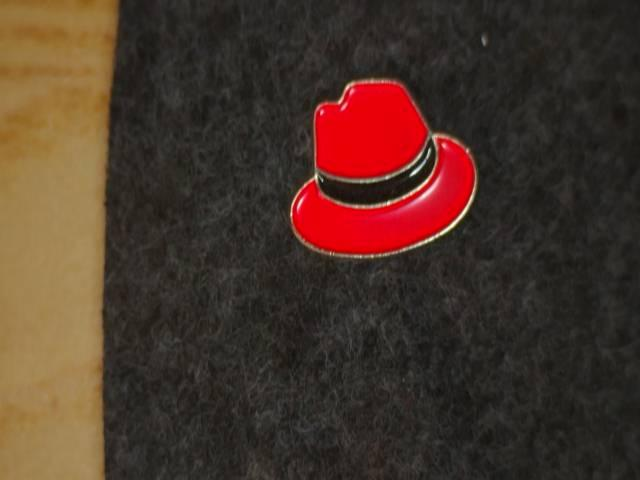Red-Hat: (266, 63, 500, 278)
